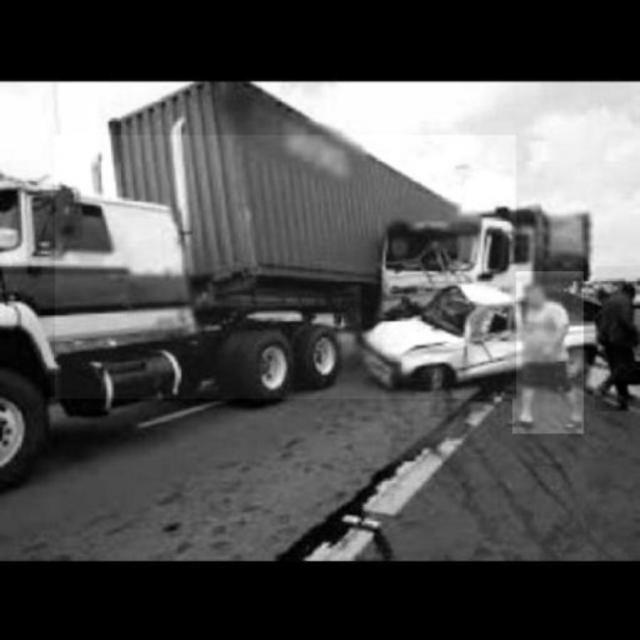accident: (56, 135, 517, 398)
person: (513, 272, 584, 434), (595, 266, 640, 410)
